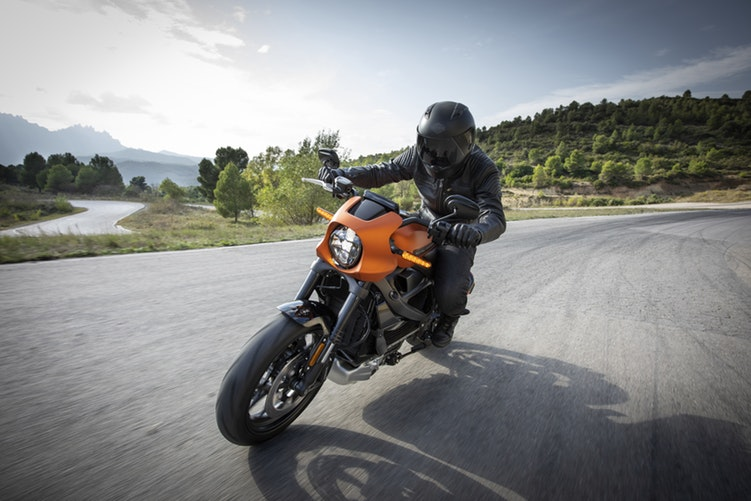helmet: (411, 101, 488, 172)
